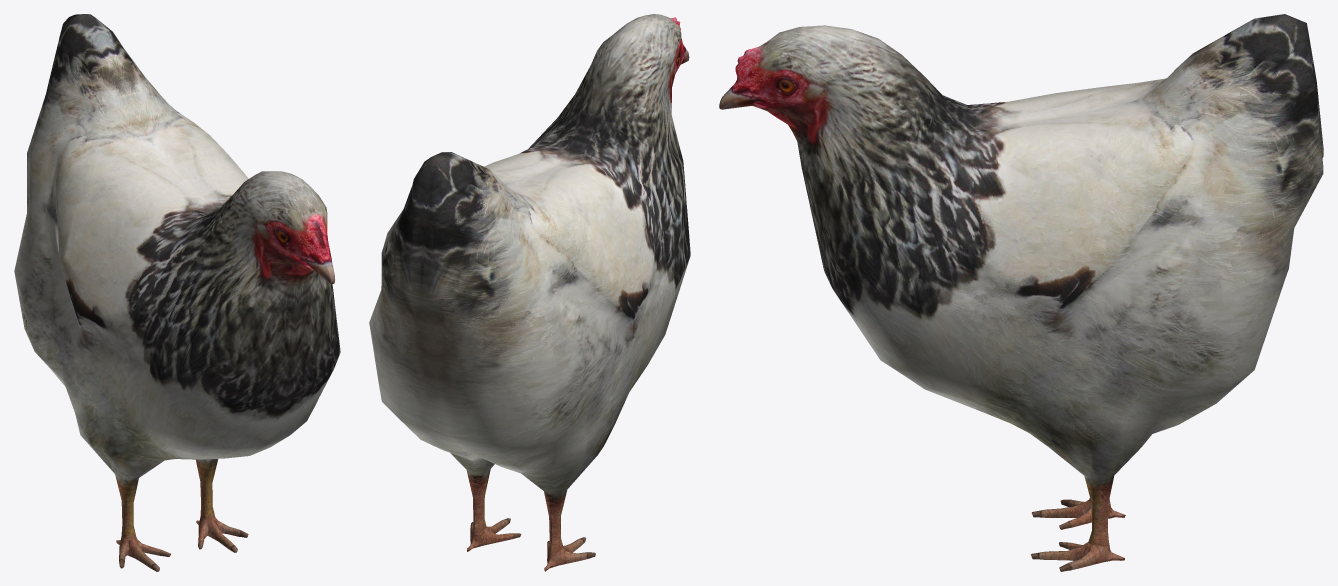
The model's file is hen.fbx.
The picture shows the model from 3 angles, left to right: view 1: azimuth 30°, elevation 25°; view 2: azimuth 150°, elevation 25°; view 3: azimuth 270°, elevation 25°; orthographic projection. The views are drawn at different scales.
Visible parts, largest first — view 1: Chiken01; view 2: Chiken01; view 3: Chiken01.
Boxes of the visible parts, <box> form: Chiken01: <box>14,14,340,571</box>; Chiken01: <box>369,14,690,571</box>; Chiken01: <box>719,14,1323,571</box>.
Bounding box in the file's own units: 6 × 12.62 × 13.19.
